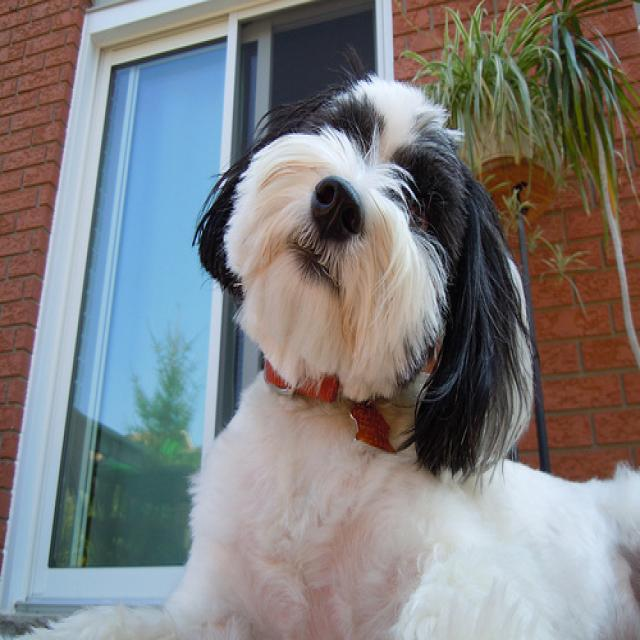dog-havanese: (1, 63, 637, 637)
